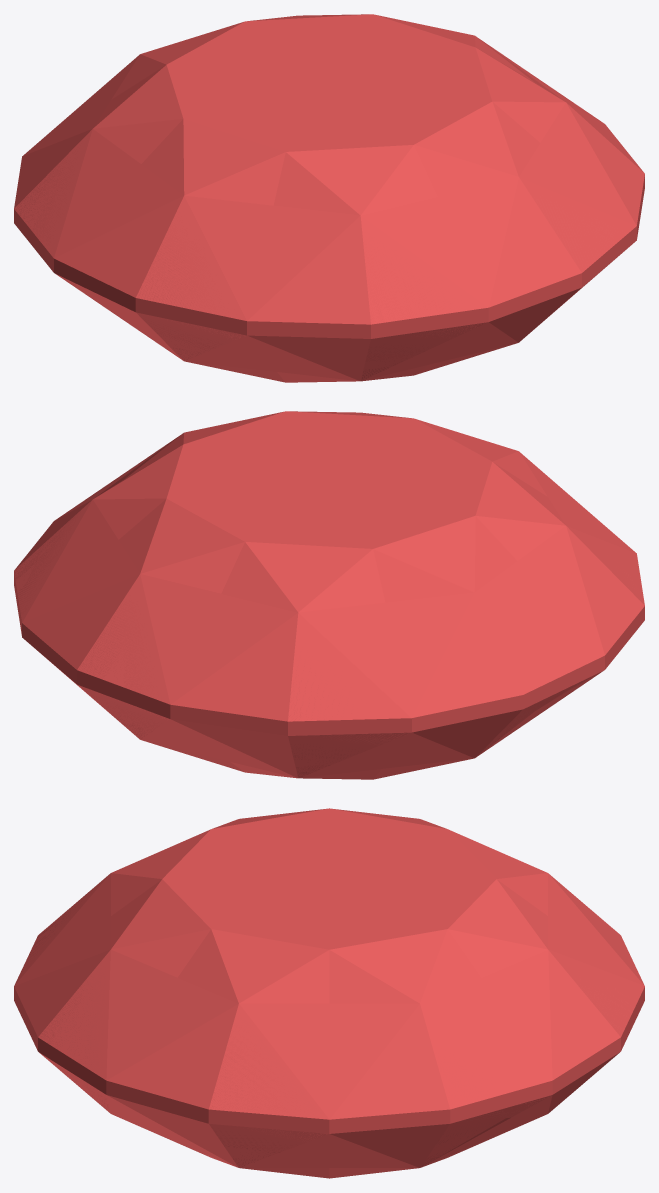
The model's file is gem_ruby.glb.
3 renders of one model, top to bottom at view 1: azimuth 30°, elevation 25°; view 2: azimuth 150°, elevation 25°; view 3: azimuth 270°, elevation 25°, orthographic.
Visible parts, largest first — view 1: RoundCutGem; view 2: RoundCutGem; view 3: RoundCutGem.
Boxes of the visible parts, x1,y1,x2,y2 form: RoundCutGem: [14, 14, 644, 382]; RoundCutGem: [14, 411, 644, 779]; RoundCutGem: [14, 808, 644, 1178].
Size of the model in its own units: 2 by 0.8 by 2.
